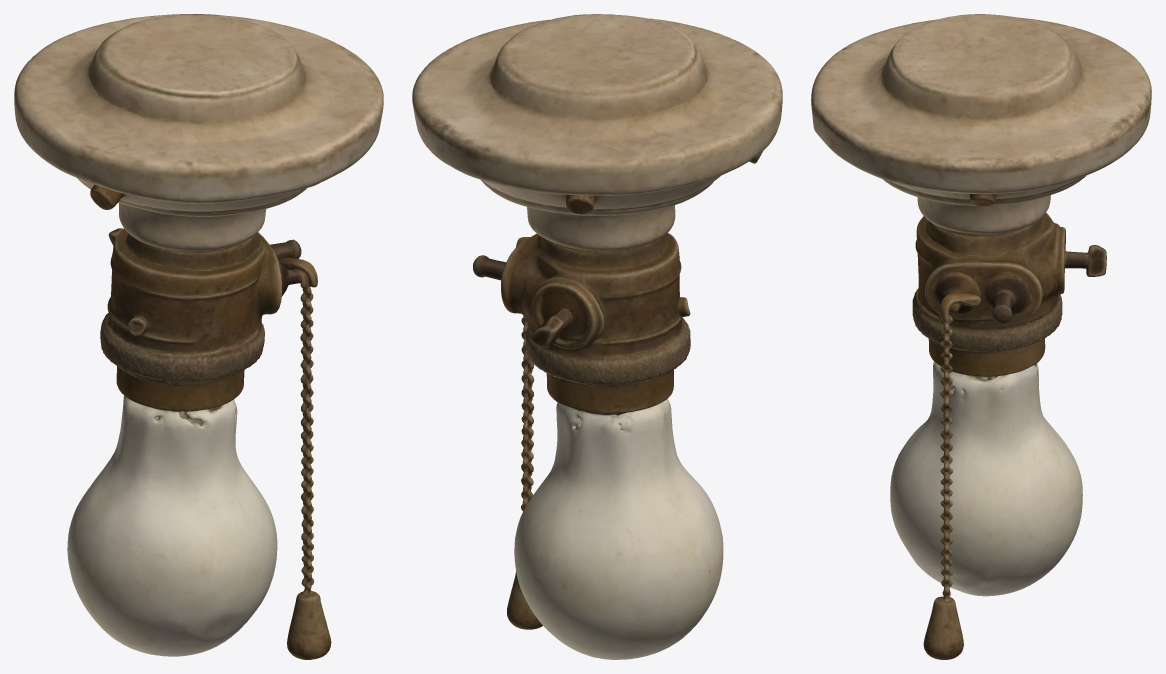
Rendered from bulb.glb.
The picture shows the model from 3 angles, left to right: view 1: azimuth 30°, elevation 25°; view 2: azimuth 150°, elevation 25°; view 3: azimuth 270°, elevation 25°; orthographic projection. The views are drawn at different scales.
Size of the model in its own units: 0.5266 by 0.9628 by 0.525.
Materials: 1 (1 with a texture image).
